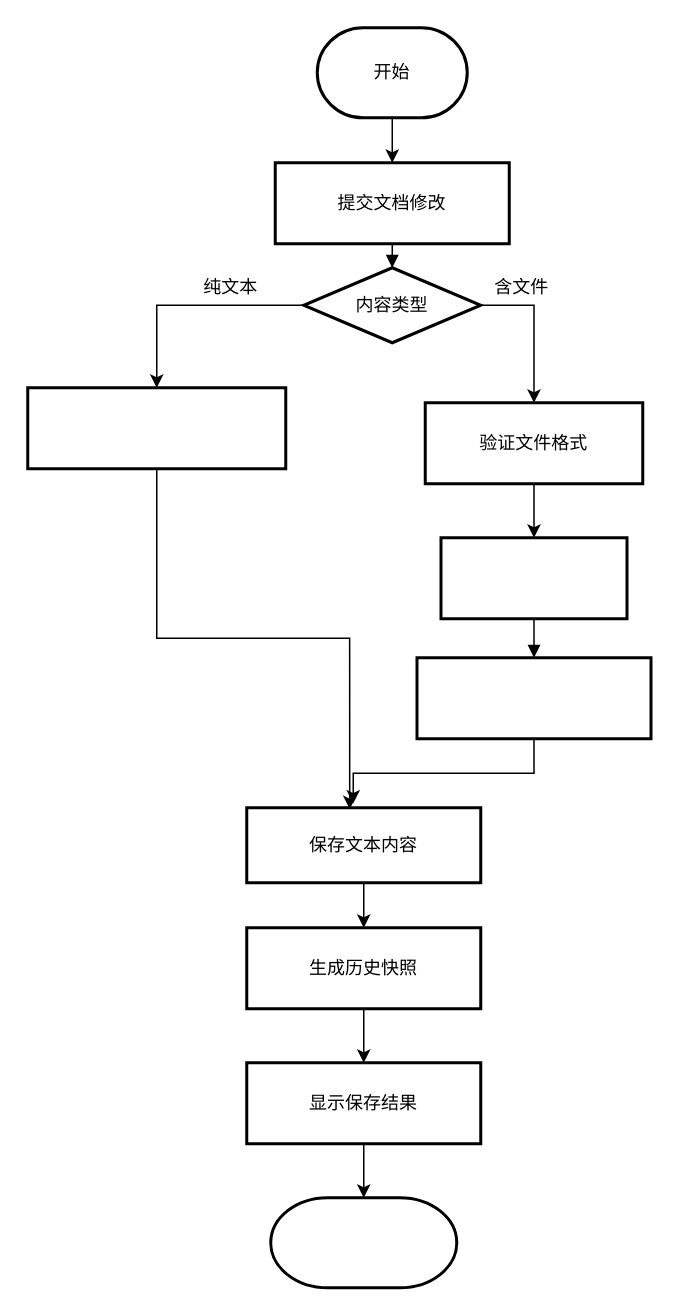
Image size: 678x1314. Some labels were removed from this diagram. The centre of each missing label's shape, as x and y in pixels:
"存储文件" goes at [533,578].
"更新文档元数据" goes at [156,428].
"结束" goes at [363,1242].
"记录文件信息" goes at [533,698].
